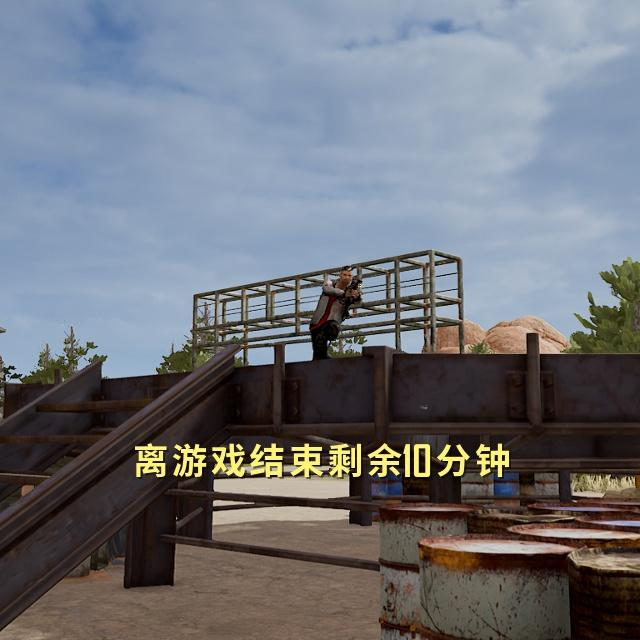head: (338, 265, 354, 288)
people: (309, 264, 362, 358)
